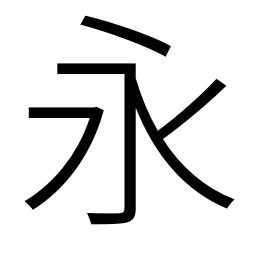D: (78, 12, 172, 57)
HSZ: (107, 61, 140, 92)
Hs: (53, 60, 94, 79)
Ne: (200, 185, 237, 213)
PNc: (145, 116, 175, 153)
PZe: (22, 187, 52, 212)
Ps: (203, 76, 228, 103)
SG: (85, 198, 140, 229)
Sm: (120, 143, 140, 181)
TPZ: (75, 104, 106, 144)
Ts: (26, 104, 55, 121)
